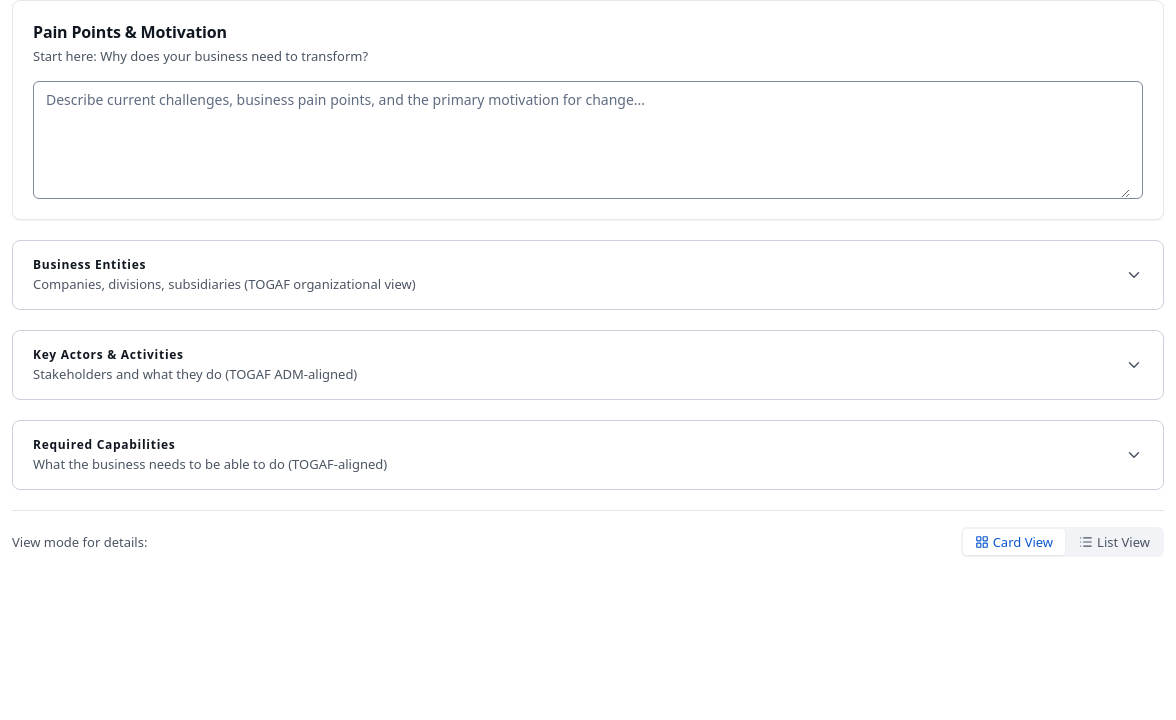
Scenario: ARIA Labels - Icon-Only Buttons › BusinessContextTab › has aria-label on capability tag remove button
Click the button "Required Capabilities": (104, 444) [13,421,1163,489]
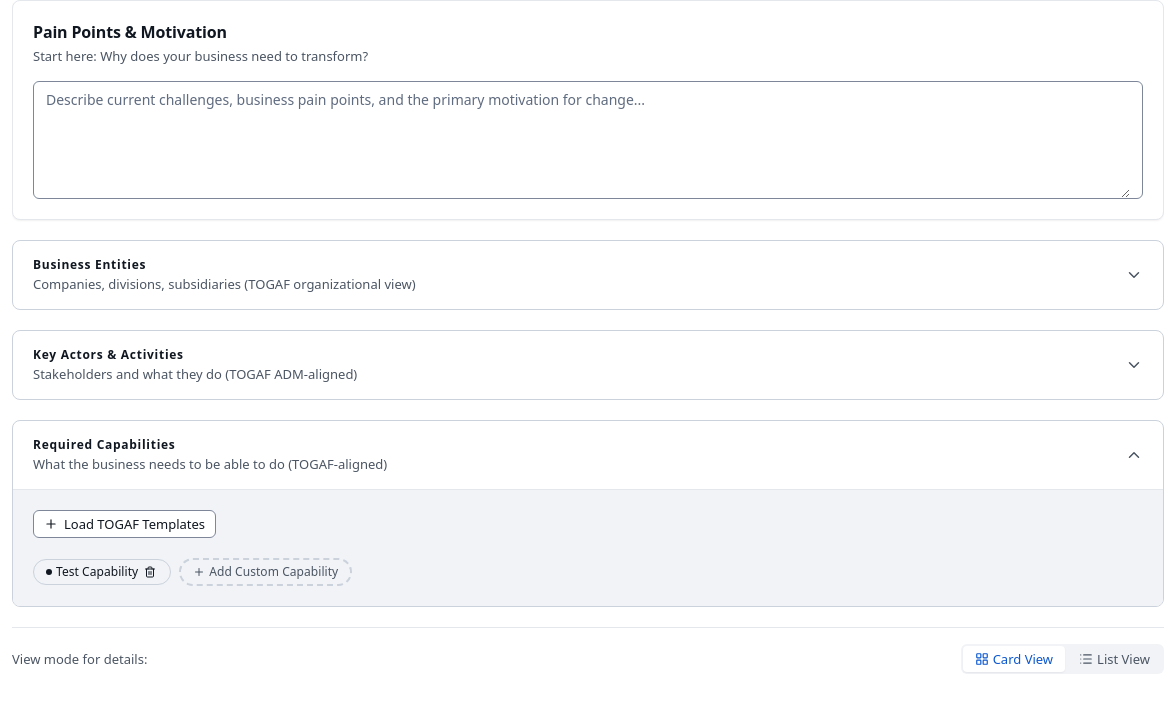
Check: the button named "remove capability test capability" is shown, box [142,564,158,580]
